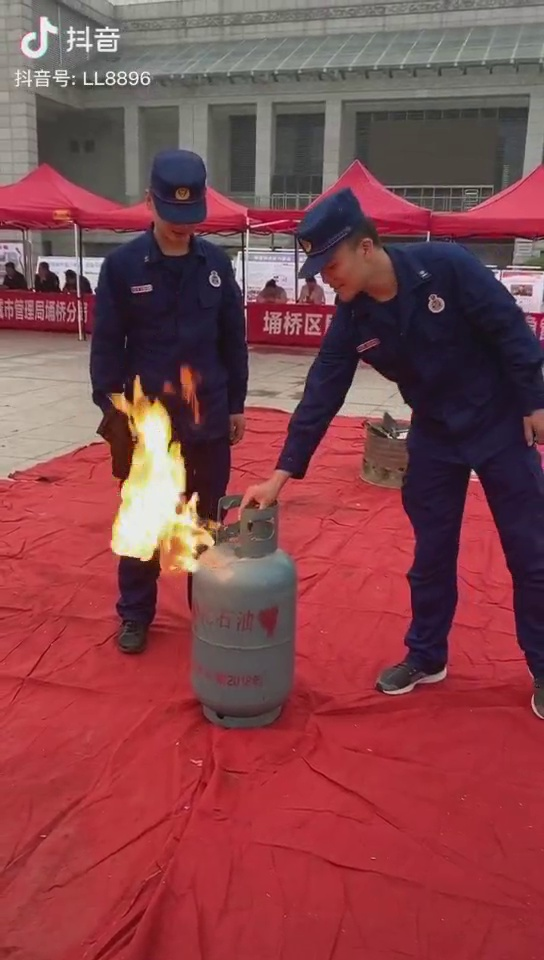fire: (103, 400, 210, 565)
